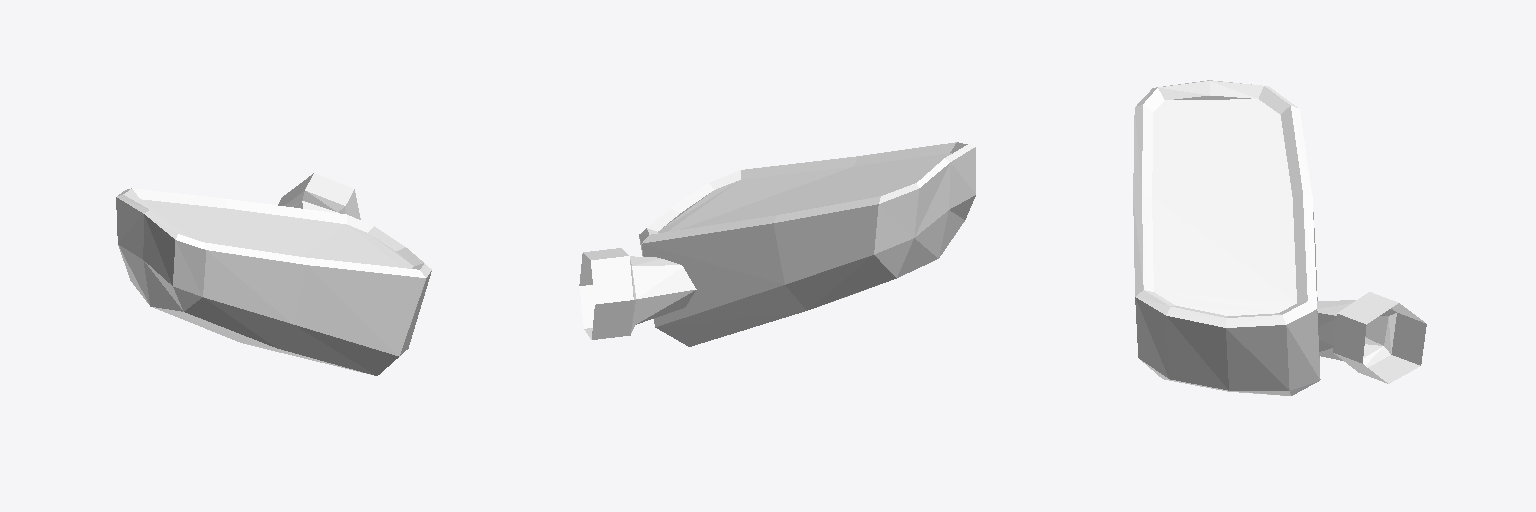
Rendered from Espejo.obj.
3 renders of one model, left to right at view 1: azimuth 30°, elevation 25°; view 2: azimuth 150°, elevation 25°; view 3: azimuth 270°, elevation 25°, orthographic.
Visible parts, largest first — view 1: Object.1, Object.2, Object.3; view 2: Object.1, Object.2, Object.3; view 3: Object.2, Object.1, Object.3.
Part boxes in pixels (x1,y1,x2,y2): Object.1: (116,173,431,375); Object.2: (137,199,413,268); Object.3: (123,188,423,269); Object.1: (579,145,975,346); Object.2: (658,153,951,232); Object.3: (647,142,967,234); Object.2: (1152,96,1296,315); Object.1: (1133,80,1426,395); Object.3: (1142,81,1307,317).
Bounding box in the file's own units: 1.86 × 1.28 × 1.61.